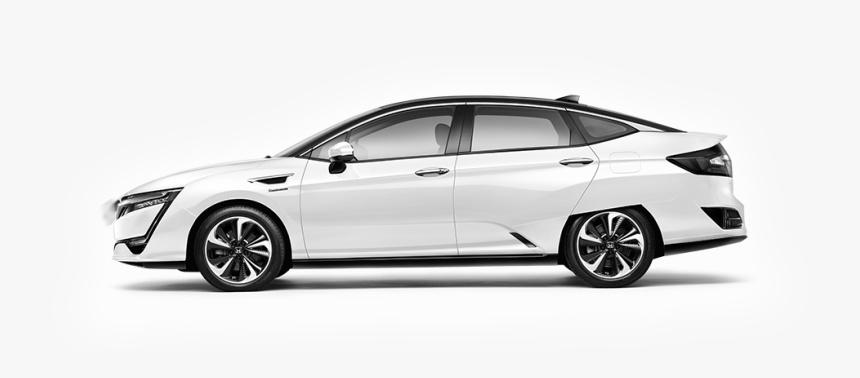Car hood: (114, 155, 305, 198)
Fender - -F-L-: (174, 152, 308, 259)
Fender - -R-L-: (569, 134, 697, 212)
Front bumper: (96, 212, 203, 278)
Headlight - -L-: (102, 180, 191, 221)
Passenger-s door - -F-L-: (302, 96, 456, 259)
Passenger-s door - -R-L-: (455, 97, 601, 259)
Rear bumper: (650, 177, 759, 257)
Rear light - -L-: (663, 140, 738, 183)
Side bumper - -L-: (285, 222, 573, 270)
Side mirror - -L-: (322, 136, 357, 177)
